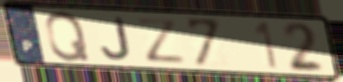1: (253, 21, 281, 72)
2: (280, 21, 328, 73)
7: (185, 16, 224, 69)
J: (99, 16, 134, 62)
Q: (43, 10, 92, 63)
Z: (134, 17, 188, 65)
